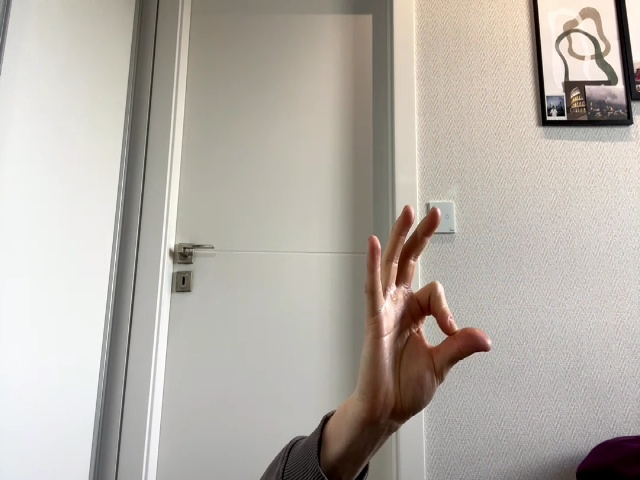S: (363, 205, 492, 407)
